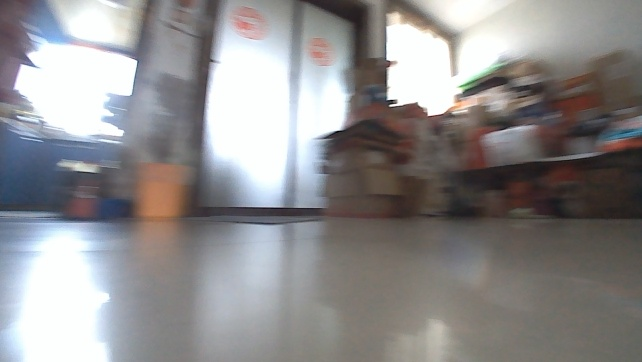blanket: (190, 211, 328, 231)
